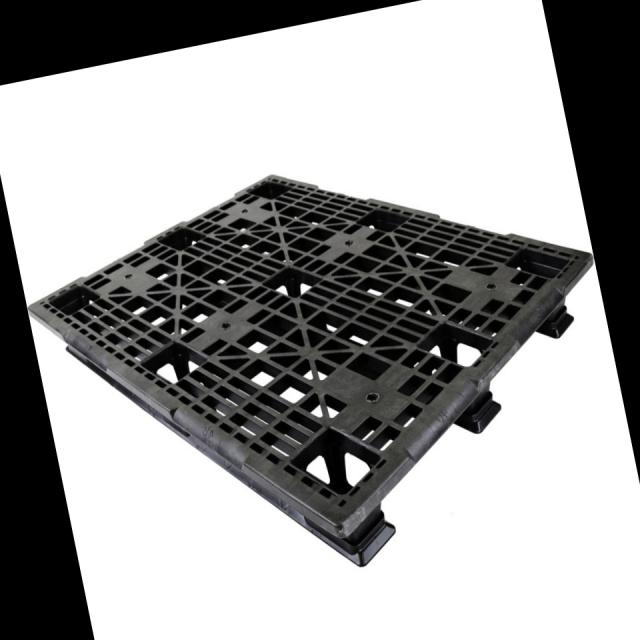non-igps: (22, 162, 600, 573)
